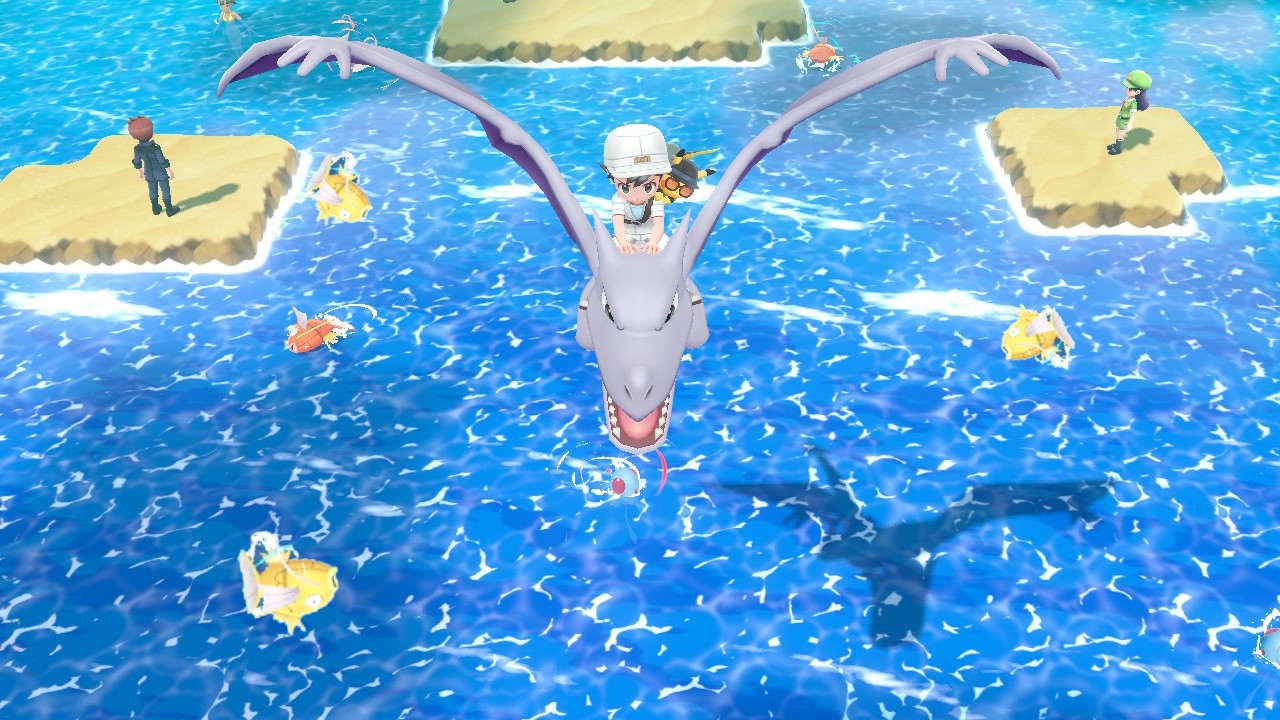Golden: (241, 544, 338, 631), (997, 307, 1070, 369), (309, 159, 371, 227)
Red: (283, 307, 359, 357), (793, 38, 846, 69)
